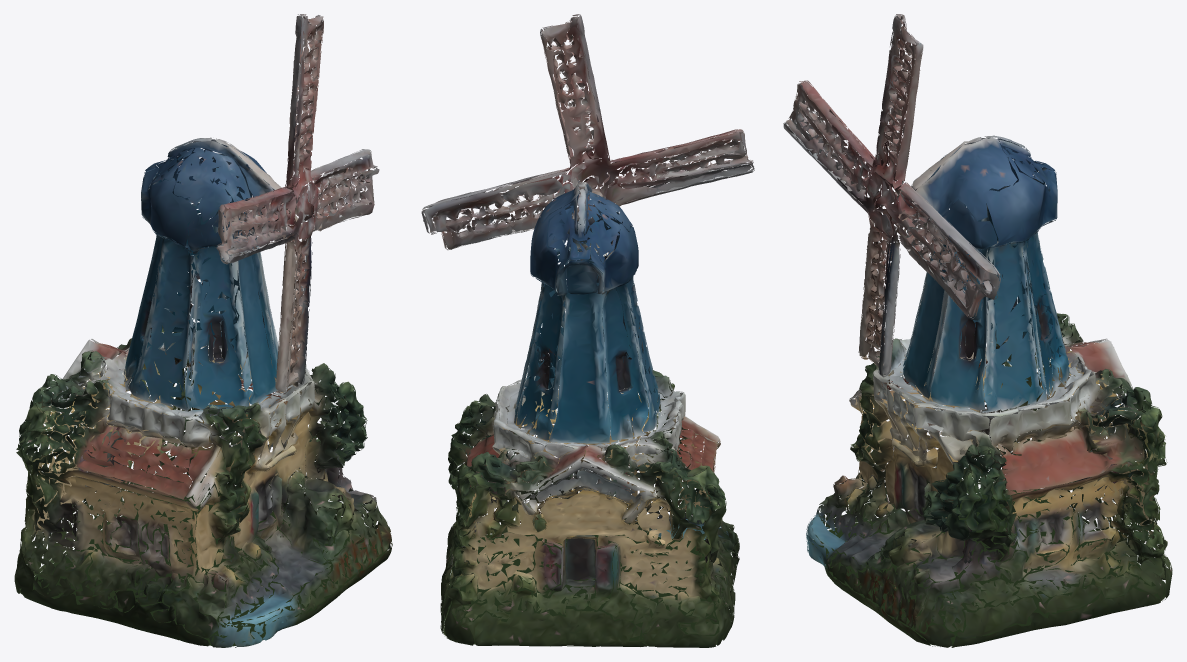
The model's file is trellis_windmill.glb.
The picture shows the model from 3 angles, left to right: view 1: azimuth 30°, elevation 25°; view 2: azimuth 150°, elevation 25°; view 3: azimuth 270°, elevation 25°; orthographic projection. The views are drawn at different scales.
Parts seen in each view (by area): view 1: mesh; view 2: mesh; view 3: mesh.
Part boxes in pixels (bbox=[...]): mesh: bbox=[14, 14, 392, 647]; mesh: bbox=[421, 14, 754, 647]; mesh: bbox=[783, 14, 1172, 647].
Bounding box in the file's own units: 0.1353 × 0.2176 × 0.1319.
